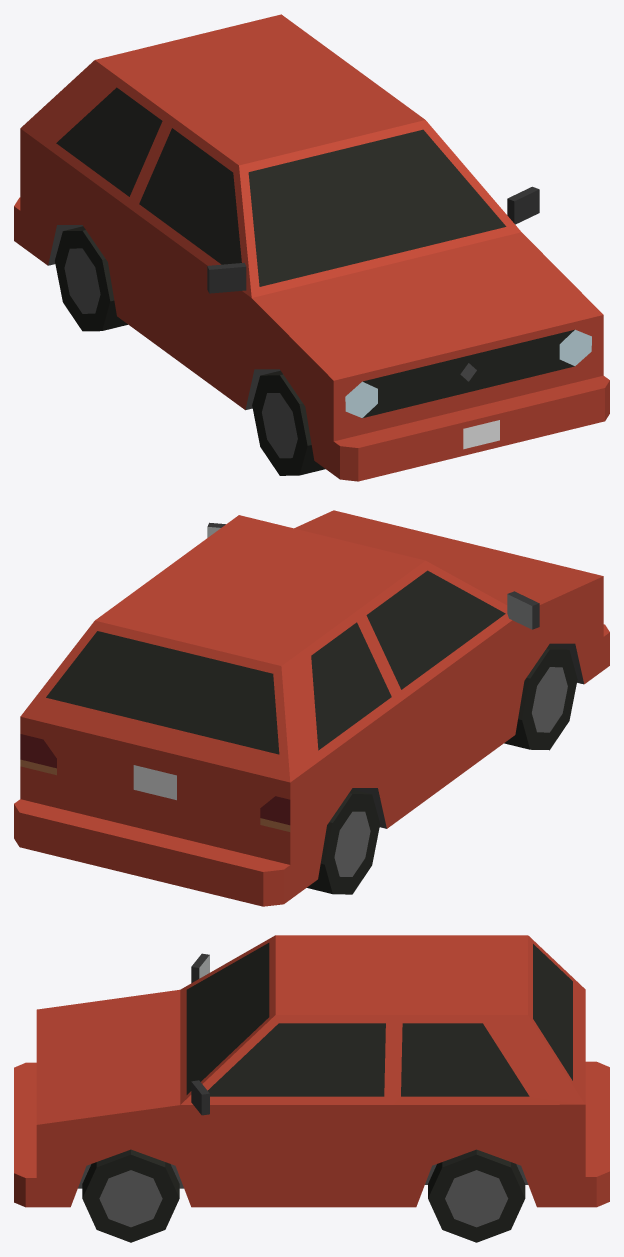
The model's file is Veh_Coupe_02_Red.obj.
3 renders of one model, top to bottom at view 1: azimuth 30°, elevation 25°; view 2: azimuth 150°, elevation 25°; view 3: azimuth 270°, elevation 25°, orthographic. The views are drawn at different scales.
Bounding box in the file's own units: 1.12 × 0.78 × 2.01.
